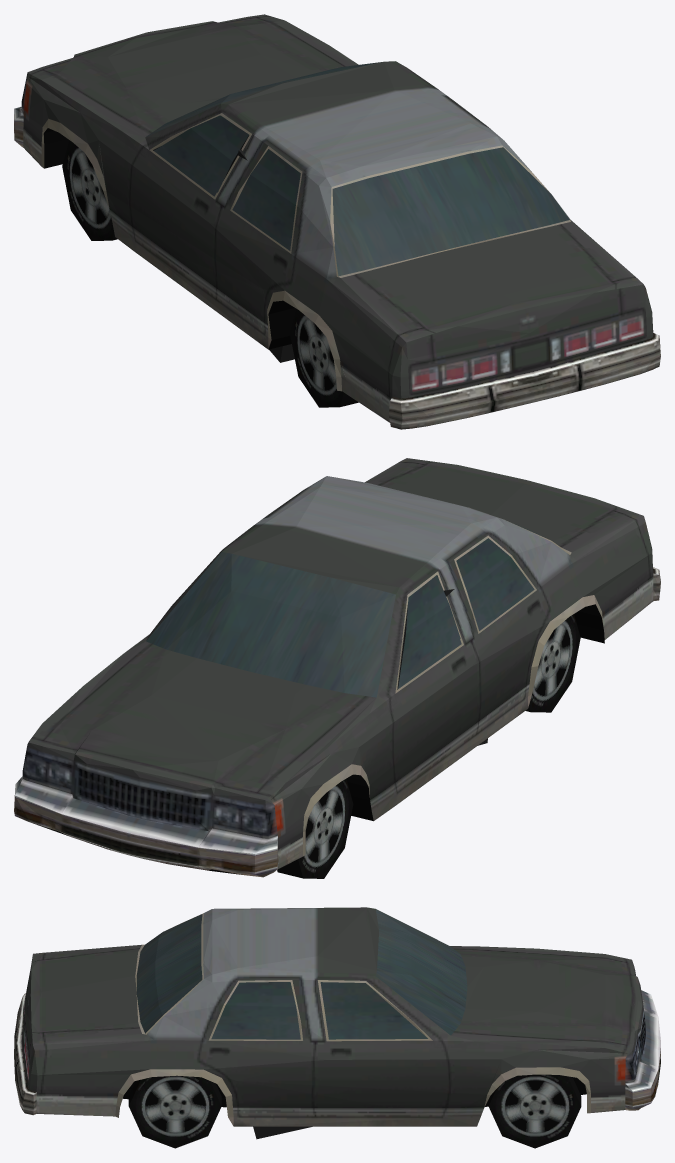
The model's file is Banco.fbx.
3 views of the same model, one above another, from view 1: azimuth 30°, elevation 25°; view 2: azimuth 150°, elevation 25°; view 3: azimuth 270°, elevation 25° (orthographic). The views are drawn at different scales.
Visible parts, largest first — view 1: car3, car3.001; view 2: car3, car3.001; view 3: car3, Cube.
Part boxes in pixels (box(x1,y1,x2,y2)): car3: box(14, 14, 660, 429); car3.001: box(154, 115, 248, 196); car3: box(14, 458, 660, 878); car3.001: box(398, 575, 461, 688); car3: box(14, 907, 660, 1148); Cube: box(253, 1126, 312, 1139).
Bounding box in the file's own units: 159 × 118 × 414.
